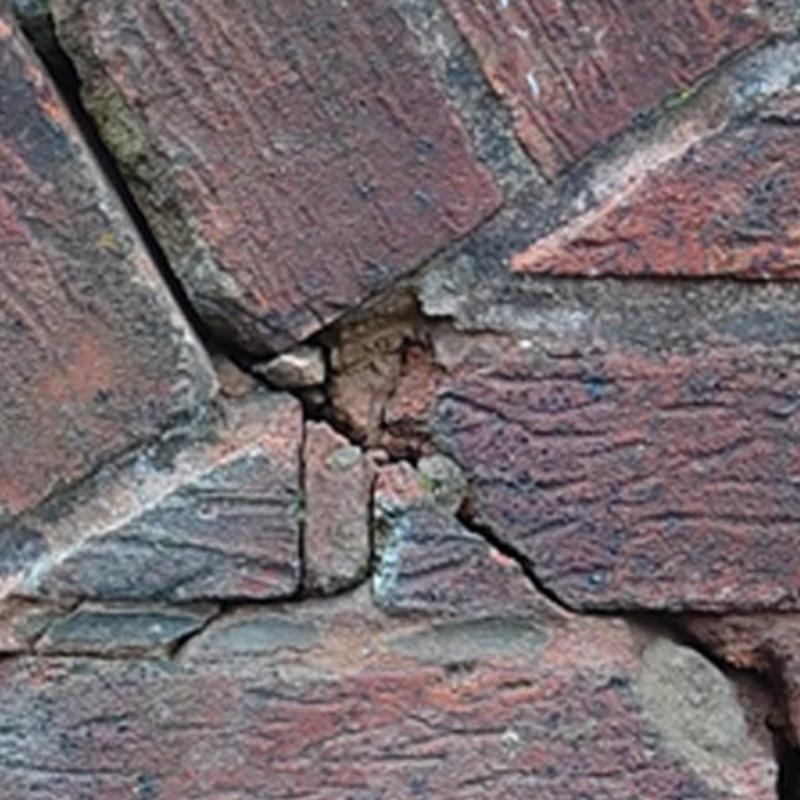pothole: (9, 0, 362, 442), (461, 507, 799, 799), (164, 470, 382, 660), (372, 444, 421, 471), (296, 419, 309, 490)
